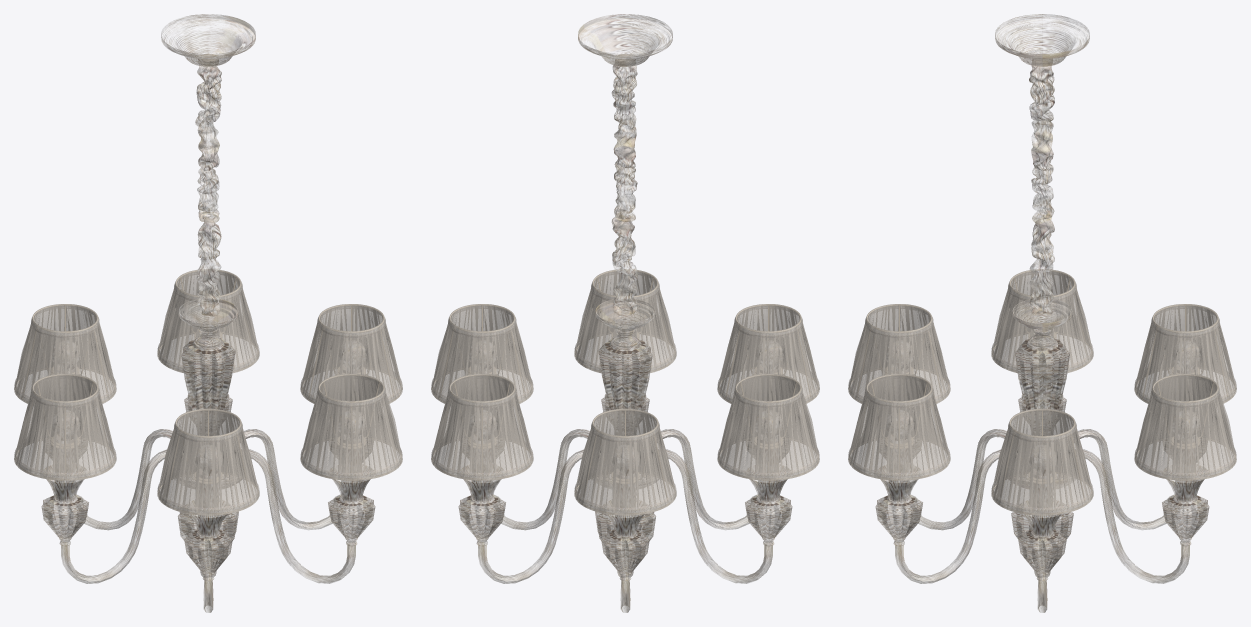
3 views of the same model, side by side, from view 1: azimuth 30°, elevation 25°; view 2: azimuth 150°, elevation 25°; view 3: azimuth 270°, elevation 25° (orthographic).
Visible parts, largest first — view 1: Object_16, Object_15, Object_10, Object_17, Object_11, Object_12, Object_8, Object_13, Object_18, Object_7, Object_9, Object_14 (+4 smaller); view 2: Object_16, Object_10, Object_17, Object_15, Object_11, Object_12, Object_13, Object_18, Object_8, Object_7, Object_9, Object_14 (+3 smaller); view 3: Object_10, Object_15, Object_11, Object_16, Object_17, Object_12, Object_8, Object_13, Object_7, Object_18, Object_9, Object_14 (+4 smaller).
Boxes of the visible parts, bbox=[...] form: Object_16: bbox=[14, 304, 259, 515]; Object_15: bbox=[14, 304, 402, 514]; Object_10: bbox=[41, 304, 402, 573]; Object_17: bbox=[14, 304, 401, 479]; Object_11: bbox=[41, 269, 381, 573]; Object_12: bbox=[55, 14, 361, 612]; Object_8: bbox=[58, 340, 402, 480]; Object_13: bbox=[43, 300, 373, 612]; Object_18: bbox=[14, 374, 115, 480]; Object_7: bbox=[195, 66, 221, 316]; Object_9: bbox=[52, 316, 402, 480]; Object_14: bbox=[47, 298, 369, 580]; Object_16: bbox=[574, 304, 819, 510]; Object_10: bbox=[431, 304, 792, 573]; Object_17: bbox=[574, 274, 817, 515]; Object_15: bbox=[431, 304, 819, 480]; Object_11: bbox=[431, 323, 792, 573]; Object_12: bbox=[431, 14, 778, 612]; Object_13: bbox=[460, 300, 790, 612]; Object_18: bbox=[718, 374, 818, 479]; Object_8: bbox=[469, 269, 782, 475]; Object_7: bbox=[611, 64, 637, 316]; Object_9: bbox=[469, 269, 782, 469]; Object_14: bbox=[464, 298, 786, 580]; Object_10: bbox=[876, 337, 1208, 573]; Object_15: bbox=[849, 269, 1093, 514]; Object_11: bbox=[875, 337, 1236, 573]; Object_16: bbox=[848, 270, 1236, 403]; Object_17: bbox=[849, 270, 1236, 479]; Object_12: bbox=[889, 14, 1236, 612]; Object_8: bbox=[848, 340, 1194, 480]; Object_13: bbox=[877, 300, 1207, 612]; Object_7: bbox=[1029, 64, 1054, 315]; Object_18: bbox=[991, 270, 1093, 372]; Object_9: bbox=[848, 340, 1199, 480]; Object_14: bbox=[881, 299, 1203, 580].
Size of the model in its own units: 661 by 916 by 593.
1 material, 1 textured.
